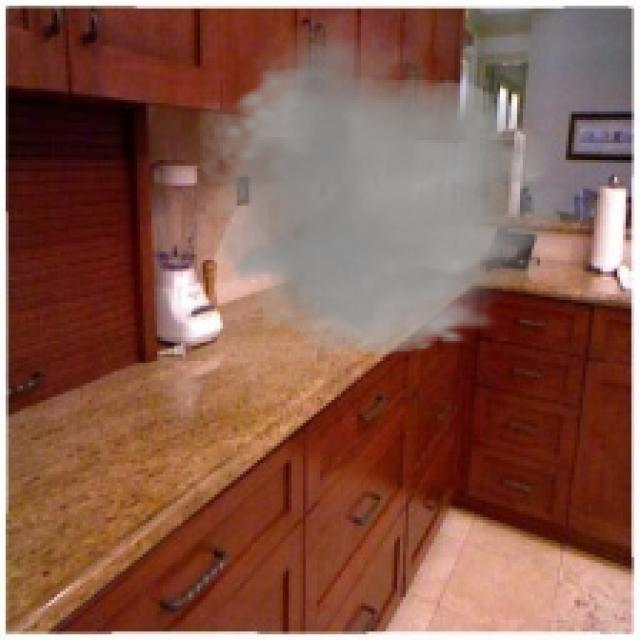Smoke: (180, 11, 597, 363)
